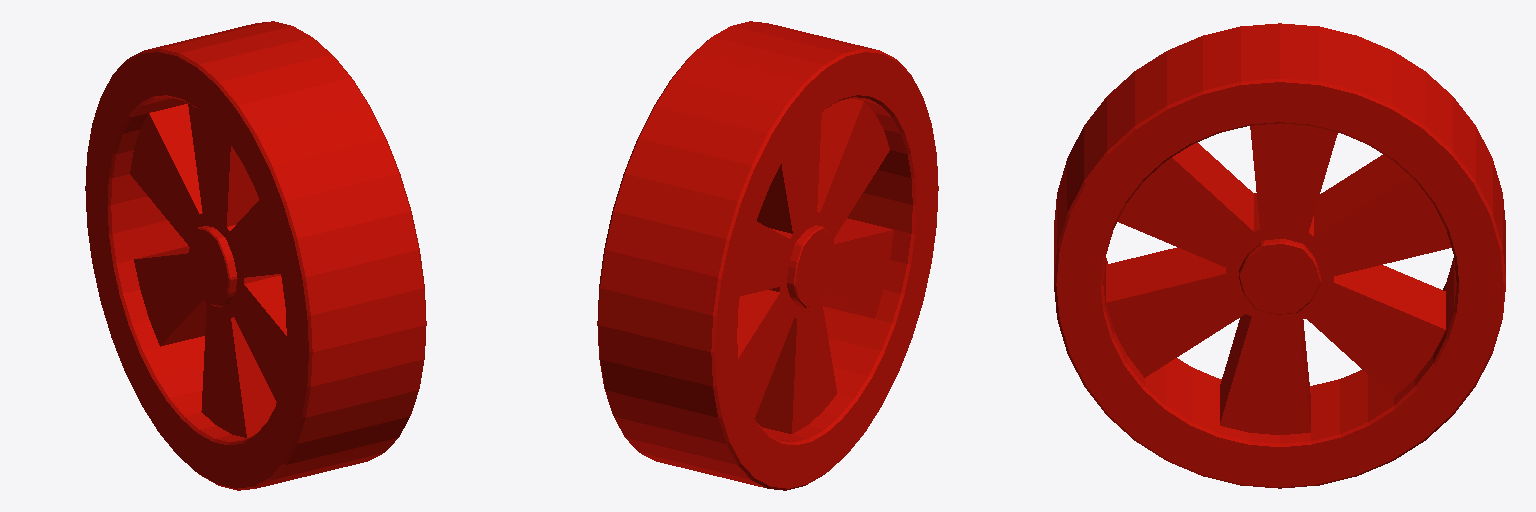
Rendered from roller.obj.
The picture shows the model from 3 angles: view 1: azimuth 30°, elevation 25°; view 2: azimuth 150°, elevation 25°; view 3: azimuth 270°, elevation 25°; orthographic projection.
Parts seen in each view (by area): view 1: Circle.001; view 2: Circle.001; view 3: Circle.001.
Part boxes in pixels (bbox=[...]): Circle.001: bbox=[85, 21, 426, 490]; Circle.001: bbox=[597, 21, 938, 490]; Circle.001: bbox=[1054, 23, 1505, 488].
Size of the model in its own units: 0.03 by 0.1 by 0.1.